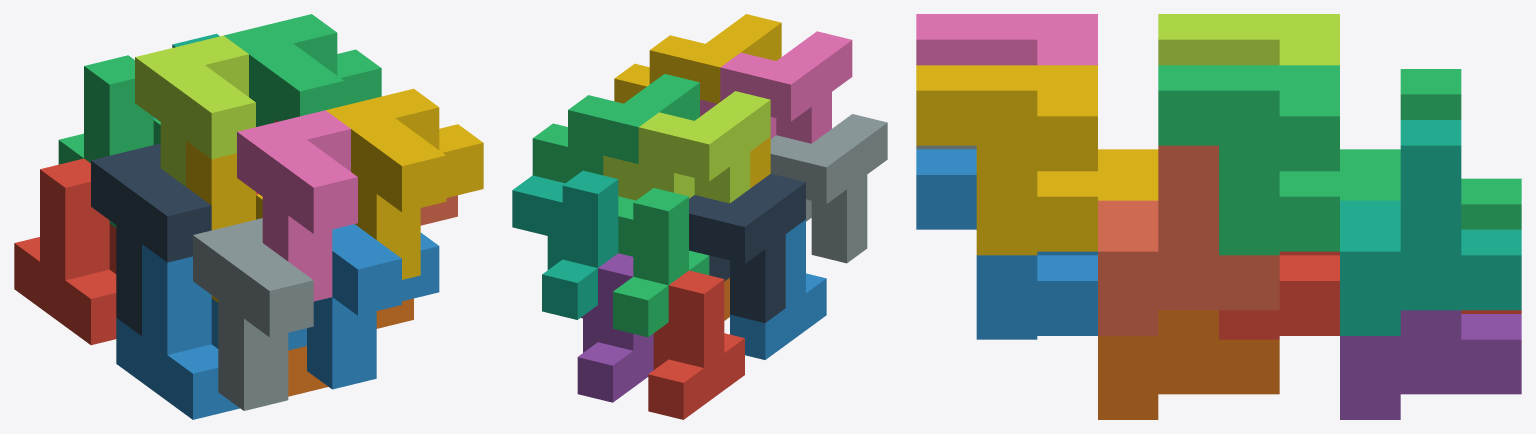
The model's file is tiling.obj.
3 renders of one model, left to right at view 1: azimuth 30°, elevation 25°; view 2: azimuth 150°, elevation 25°; view 3: azimuth 270°, elevation 25°, orthographic. The views are drawn at different scales.
Parts seen in each view (by area): view 1: copy_2_domain_8, copy_2_domain_2, copy_2_domain_4, copy_1_domain_1, copy_1_domain_2, copy_2_domain_6, copy_2_domain_3, copy_2_domain_1, copy_2_domain_7, copy_1_domain_3, copy_1_domain_4, copy_1_domain_6 (+1 smaller); view 2: copy_2_domain_3, copy_2_domain_1, copy_1_domain_7, copy_2_domain_2, copy_1_domain_1, copy_2_domain_7, copy_1_domain_3, copy_2_domain_4, copy_2_domain_8, copy_1_domain_5, copy_1_domain_2, copy_1_domain_4; view 3: copy_2_domain_8, copy_2_domain_7, copy_1_domain_7, copy_1_domain_8, copy_2_domain_6, copy_1_domain_5, copy_1_domain_6, copy_1_domain_3, copy_2_domain_3, copy_2_domain_4, copy_2_domain_5, copy_1_domain_4.
Part boxes in pixels (box(x1,y1,x2,y2)): copy_2_domain_8: box(326, 88, 483, 279); copy_2_domain_2: box(193, 218, 313, 410); copy_2_domain_4: box(237, 110, 357, 301); copy_1_domain_1: box(14, 158, 116, 345); copy_1_domain_2: box(116, 244, 306, 419); copy_2_domain_6: box(307, 224, 439, 389); copy_2_domain_3: box(135, 35, 255, 186); copy_2_domain_1: box(91, 143, 211, 335); copy_2_domain_7: box(224, 14, 381, 126); copy_1_domain_3: box(58, 55, 160, 227); copy_1_domain_4: box(186, 141, 262, 302); copy_1_domain_6: box(288, 298, 413, 396); copy_2_domain_3: box(603, 91, 770, 203); copy_2_domain_1: box(689, 174, 805, 322); copy_1_domain_7: box(512, 170, 618, 319); copy_2_domain_2: box(770, 114, 887, 263); copy_1_domain_1: box(648, 270, 744, 419); copy_2_domain_7: box(532, 74, 699, 183); copy_1_domain_3: box(613, 188, 709, 337); copy_2_domain_4: box(700, 31, 852, 143); copy_2_domain_8: box(614, 14, 781, 103); copy_1_domain_5: box(577, 253, 653, 402); copy_1_domain_2: box(730, 219, 826, 359); copy_1_domain_4: box(750, 137, 770, 188); copy_2_domain_8: box(916, 65, 1097, 255); copy_2_domain_7: box(1158, 65, 1339, 255); copy_1_domain_7: box(1340, 120, 1521, 335); copy_1_domain_8: box(1098, 145, 1279, 335); copy_2_domain_6: box(916, 149, 1097, 339); copy_1_domain_5: box(1340, 310, 1521, 419); copy_1_domain_6: box(1098, 310, 1279, 419); copy_1_domain_3: box(1340, 69, 1521, 229); copy_2_domain_3: box(1158, 14, 1339, 65); copy_2_domain_4: box(916, 14, 1097, 65); copy_2_domain_5: box(1219, 251, 1339, 339); copy_1_domain_4: box(1098, 149, 1158, 200).
Size of the model in its own units: 6 by 6 by 10.
